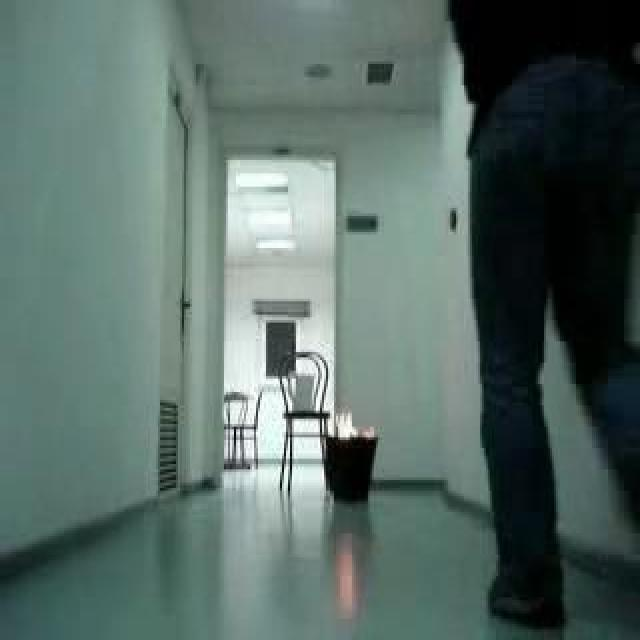Fire: (333, 411, 375, 440)
